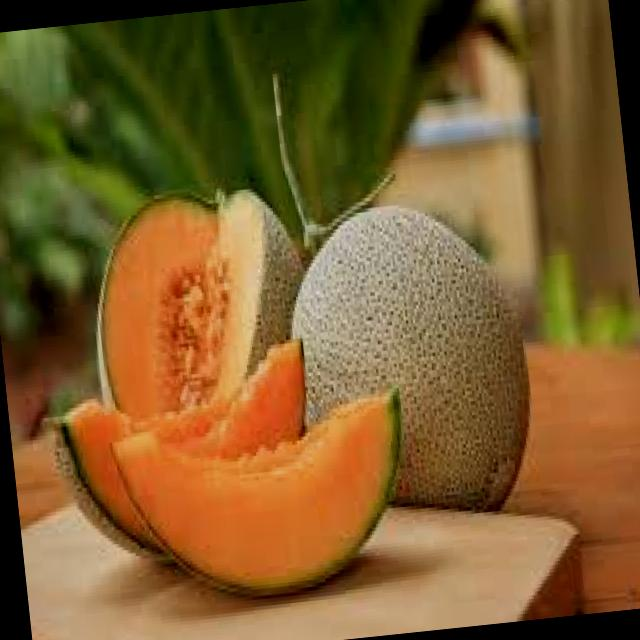cantaloupe: (282, 195, 540, 531), (110, 392, 418, 612), (45, 340, 323, 567), (85, 182, 312, 419)
